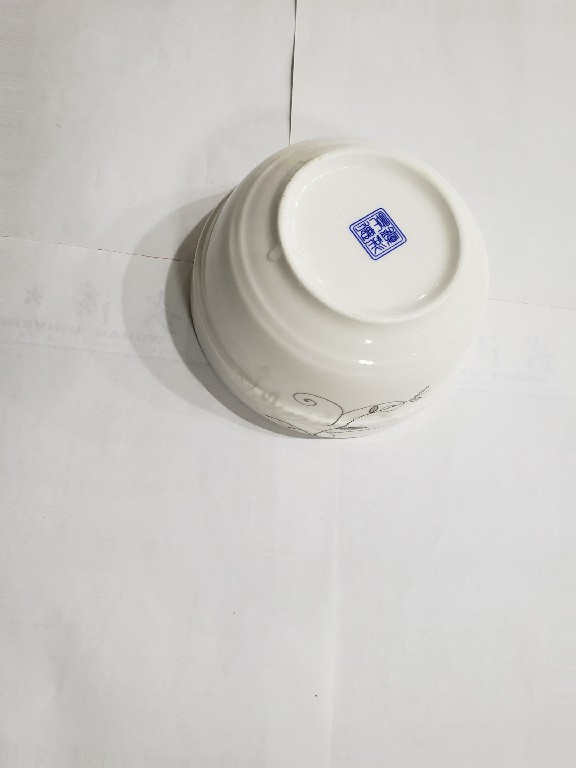ceramics: (182, 131, 495, 444)
